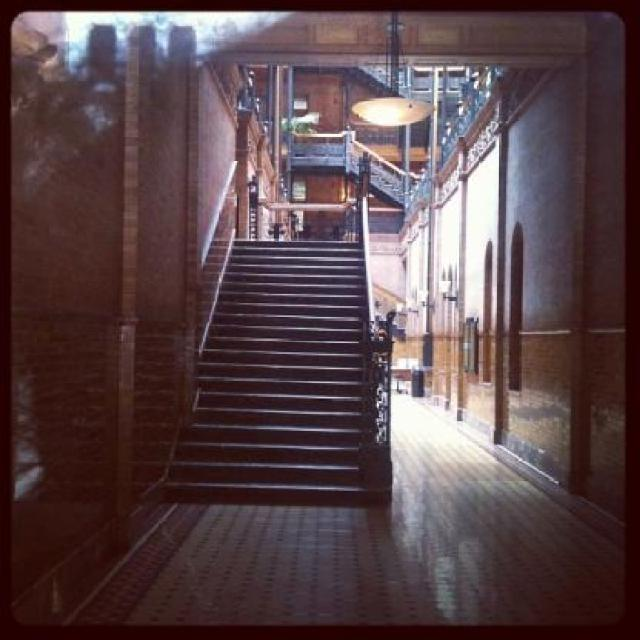stair: (180, 205, 398, 504)
